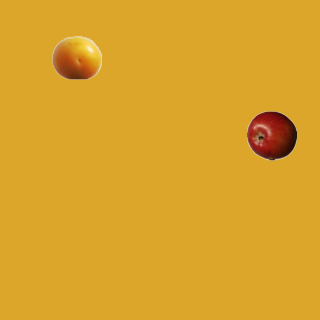Apple Braeburn: (246, 110, 296, 160)
Cherry Wax Yellow: (51, 32, 101, 82)
